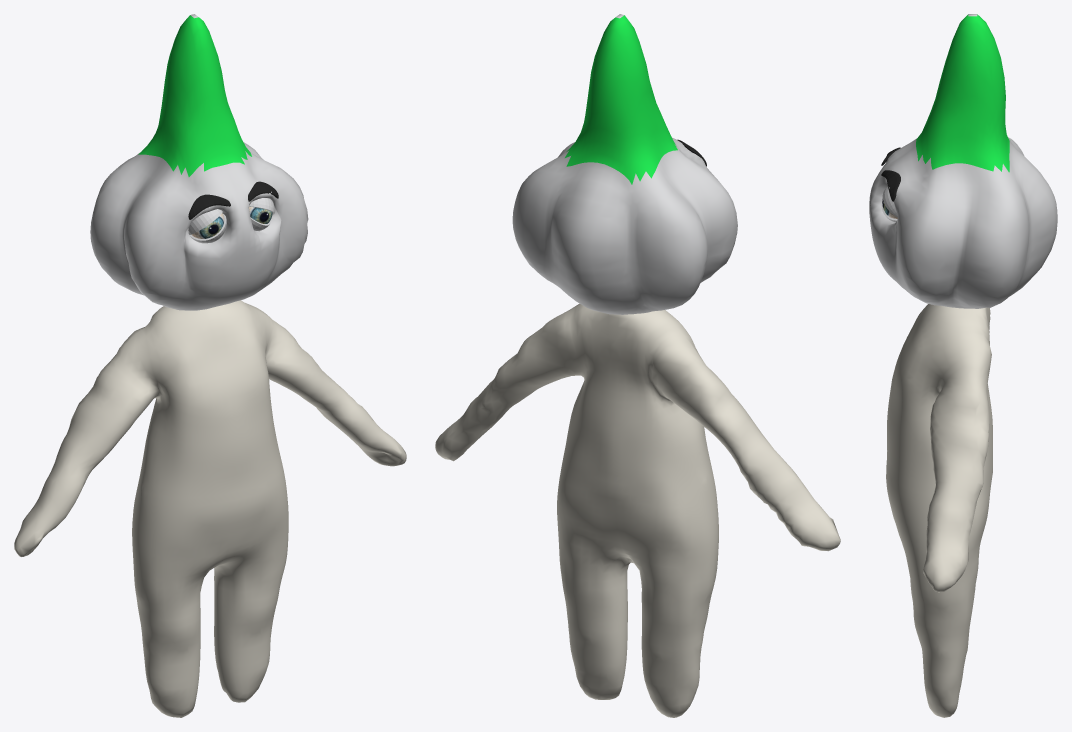
File: Garlic Top.fbx
3 views of the same model, side by side, from view 1: azimuth 30°, elevation 25°; view 2: azimuth 150°, elevation 25°; view 3: azimuth 270°, elevation 25° (orthographic). The views are drawn at different scales.
Parts seen in each view (by area): view 1: Body, Garlic Head, Eyelids, Plane.001, Eyeballs Garlic; view 2: Body, Garlic Head; view 3: Garlic Head, Body, Plane.001.
Boxes of the visible parts, x1=… form: Body: x1=14, y1=300, x2=406, y2=717; Garlic Head: x1=90, y1=14, x2=308, y2=310; Eyelids: x1=188, y1=198, x2=274, y2=243; Plane.001: x1=188, y1=181, x2=278, y2=219; Eyeballs Garlic: x1=192, y1=206, x2=272, y2=238; Body: x1=435, y1=303, x2=840, y2=717; Garlic Head: x1=512, y1=14, x2=737, y2=314; Garlic Head: x1=869, y1=14, x2=1057, y2=308; Body: x1=886, y1=304, x2=992, y2=717; Plane.001: x1=881, y1=147, x2=900, y2=201.
Bounding box in the file's own units: 459 × 765 × 191.
Materials: 5 (1 with a texture image).
